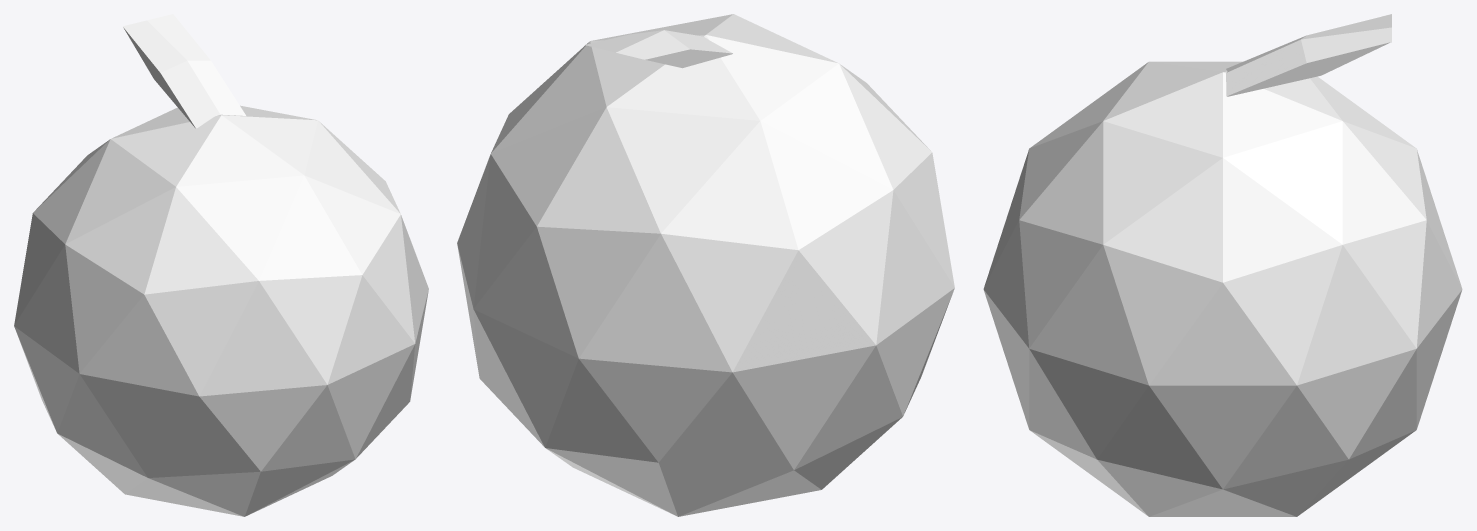
Rendered from Apple.fbx.
3 views of the same model, side by side, from view 1: azimuth 30°, elevation 25°; view 2: azimuth 150°, elevation 25°; view 3: azimuth 270°, elevation 25° (orthographic). The views are drawn at different scales.
Parts seen in each view (by area): view 1: Apple; view 2: Apple; view 3: Apple.
Boxes of the visible parts, x1,y1,x2,y2 form: Apple: (14,14,428,516); Apple: (457,14,954,516); Apple: (983,14,1462,516).
Size of the model in its own units: 190 by 221 by 200.
